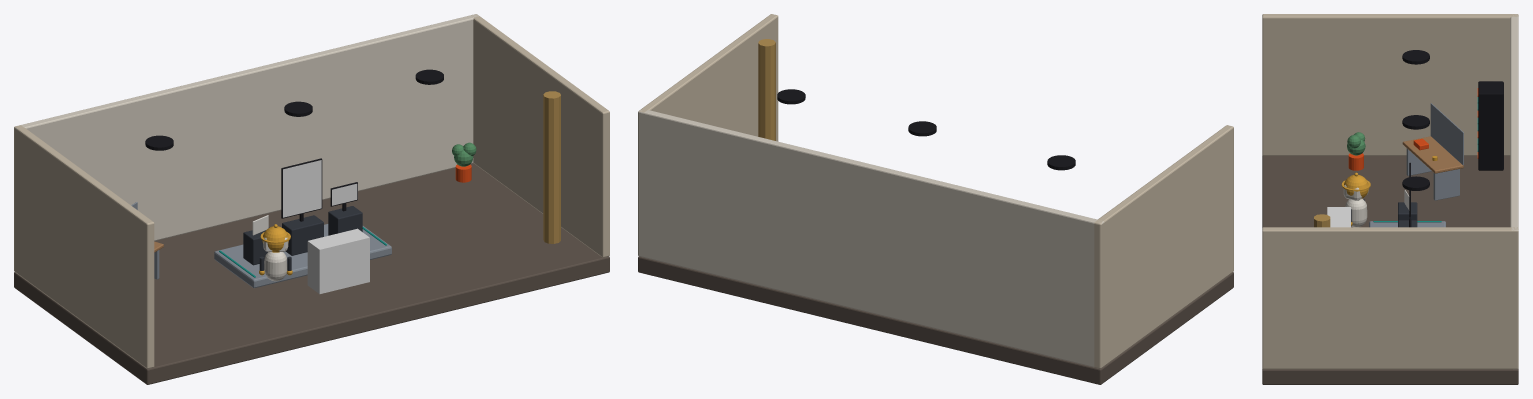
The model's file is workshop.glb.
3 views of the same model, side by side, from view 1: azimuth 30°, elevation 25°; view 2: azimuth 150°, elevation 25°; view 3: azimuth 270°, elevation 25° (orthographic). The views are drawn at different scales.
Visible parts, largest first — view 1: static, hit__slider, screens, dyn__builder__head, dyn__builder__body; view 2: static; view 3: static, dyn__builder__head, hit__slider, dyn__builder__body, glow.
Boxes of the visible parts, x1=… form: static: x1=14, y1=14, x2=609, y2=384; hit__slider: x1=307, y1=228, x2=369, y2=293; screens: x1=283, y1=160, x2=357, y2=217; dyn__builder__head: x1=260, y1=224, x2=290, y2=252; dyn__builder__body: x1=264, y1=252, x2=287, y2=281; static: x1=638, y1=14, x2=1233, y2=384; static: x1=1262, y1=14, x2=1518, y2=384; dyn__builder__head: x1=1341, y1=172, x2=1370, y2=200; hit__slider: x1=1327, y1=207, x2=1350, y2=227; dyn__builder__body: x1=1345, y1=198, x2=1367, y2=227; glow: x1=1373, y1=88, x2=1478, y2=222.
Bounding box in the file's own units: 12 × 4.03 × 6.
